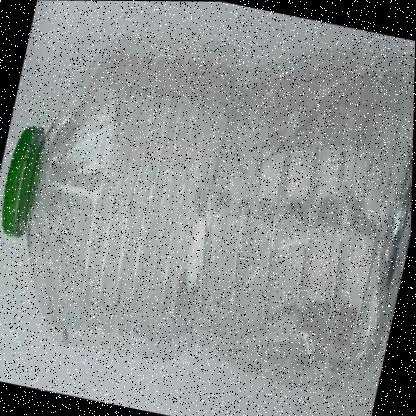bottle cap: (1, 1, 157, 366)
